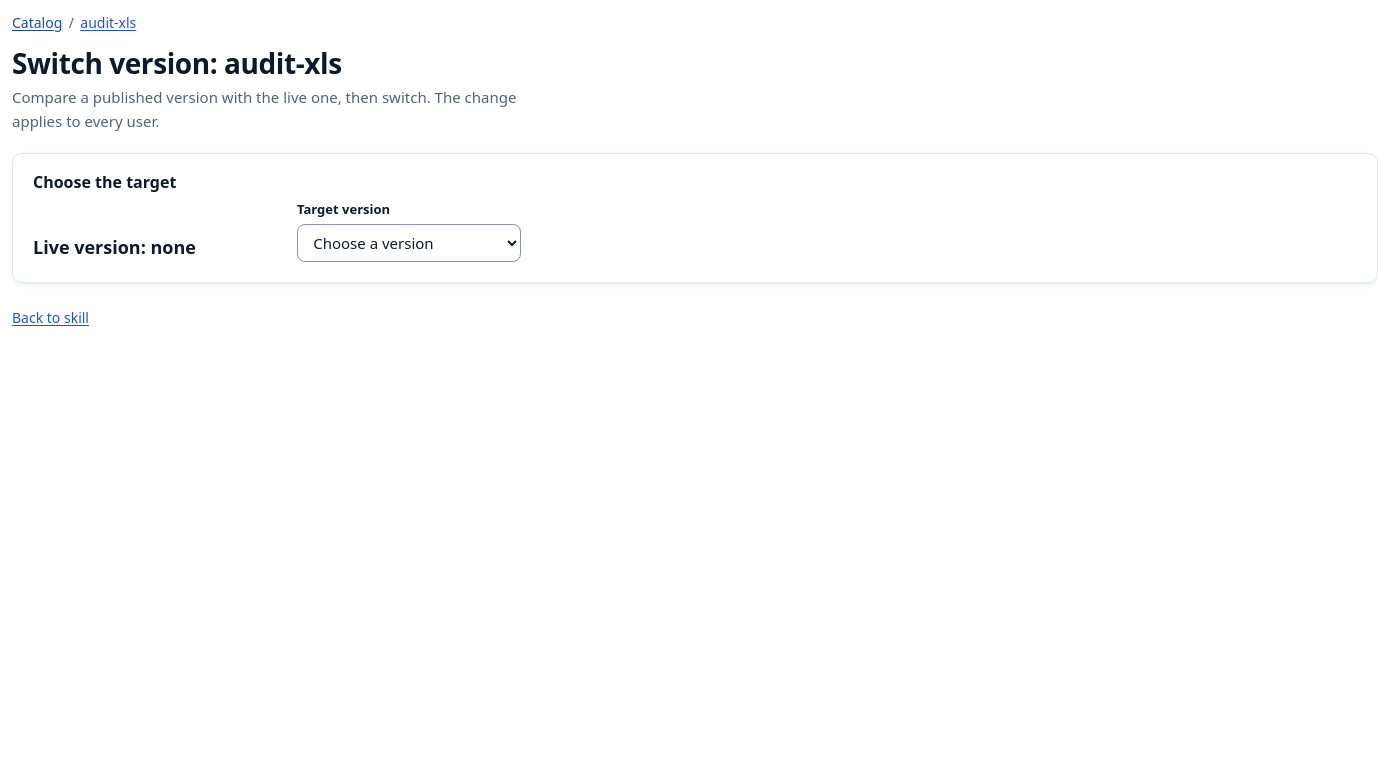
Switch › maps a 409 to a plain message
This screenshot has width=1378, height=769.
Select "v1" in the dropdown labelled "Target version" at [409, 242], box [297,224,521,262]
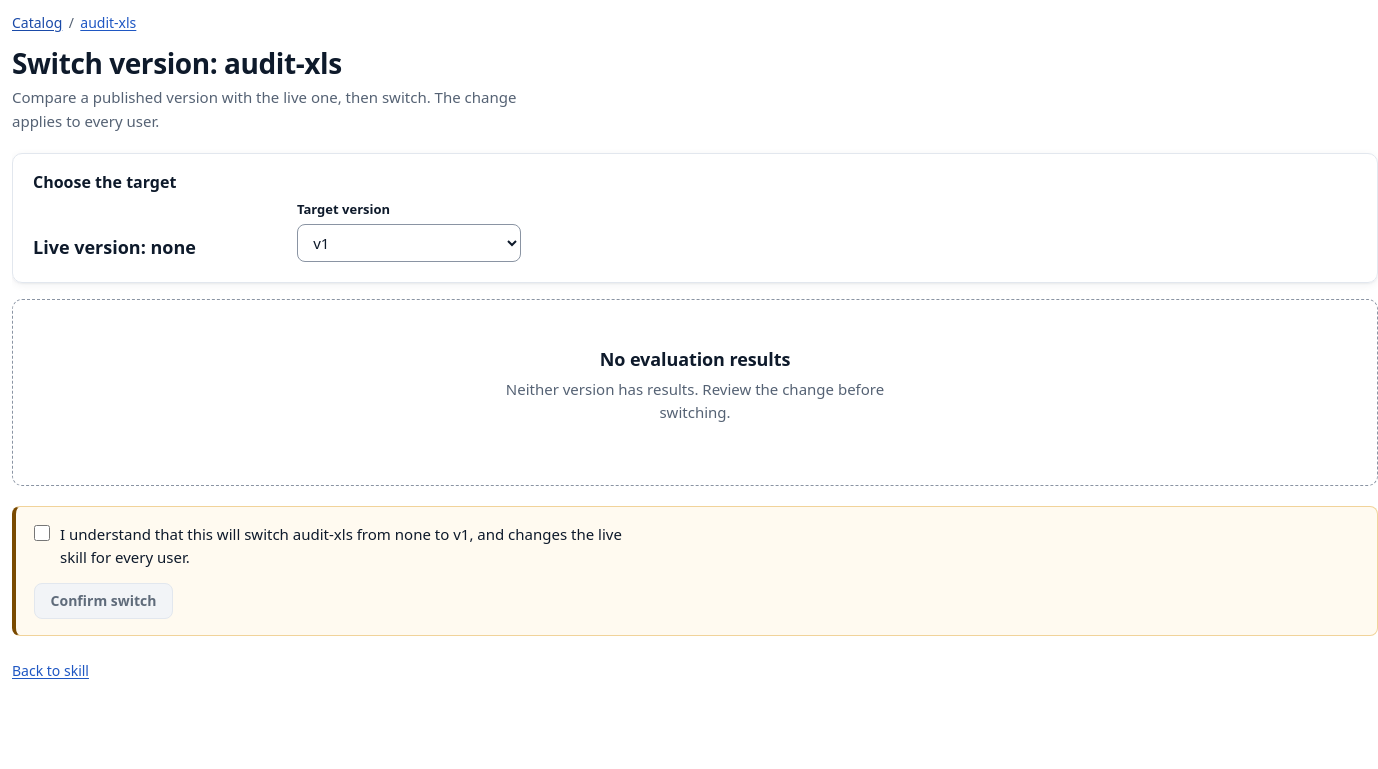
Click the checkbox labelled "I understand" at [42, 533], box [34,525,50,541]
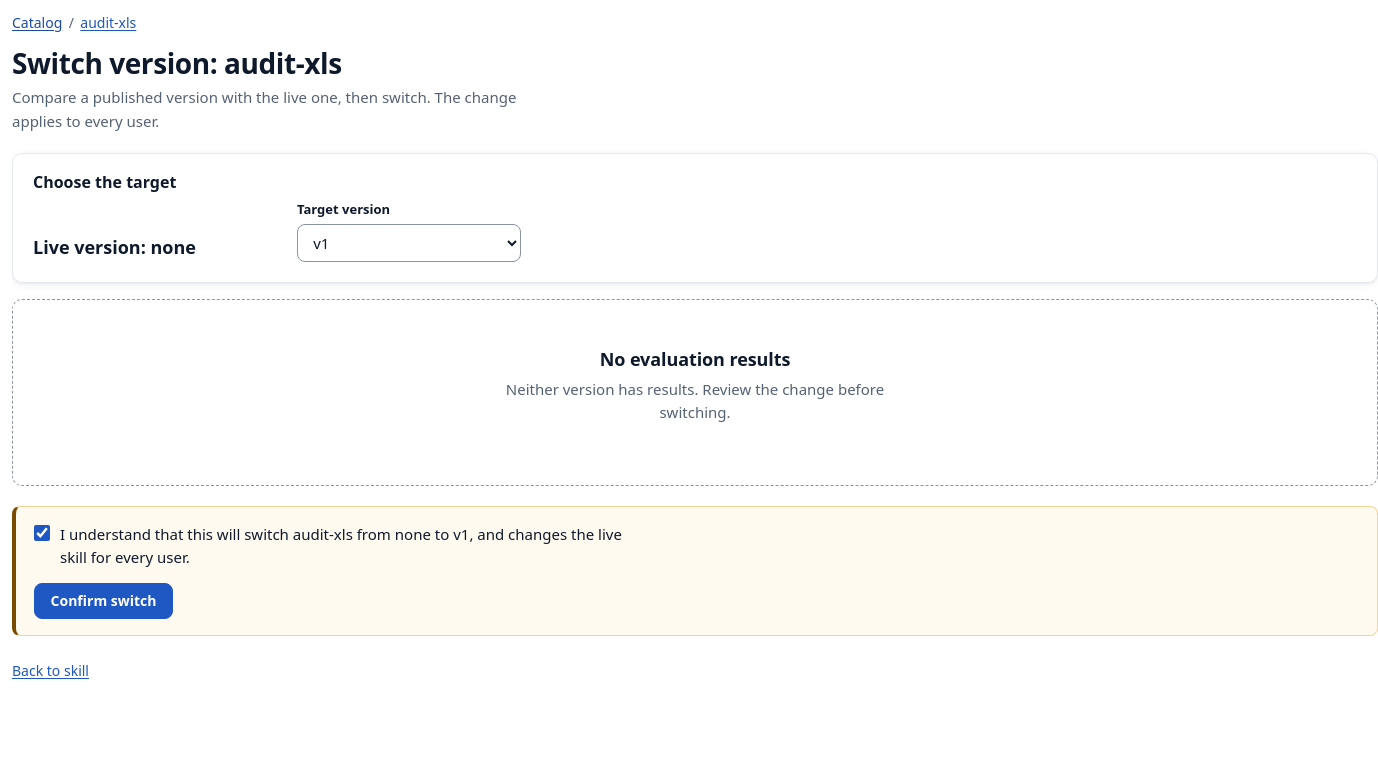
Click the button "Confirm switch" at [104, 601], box [34,583,173,619]
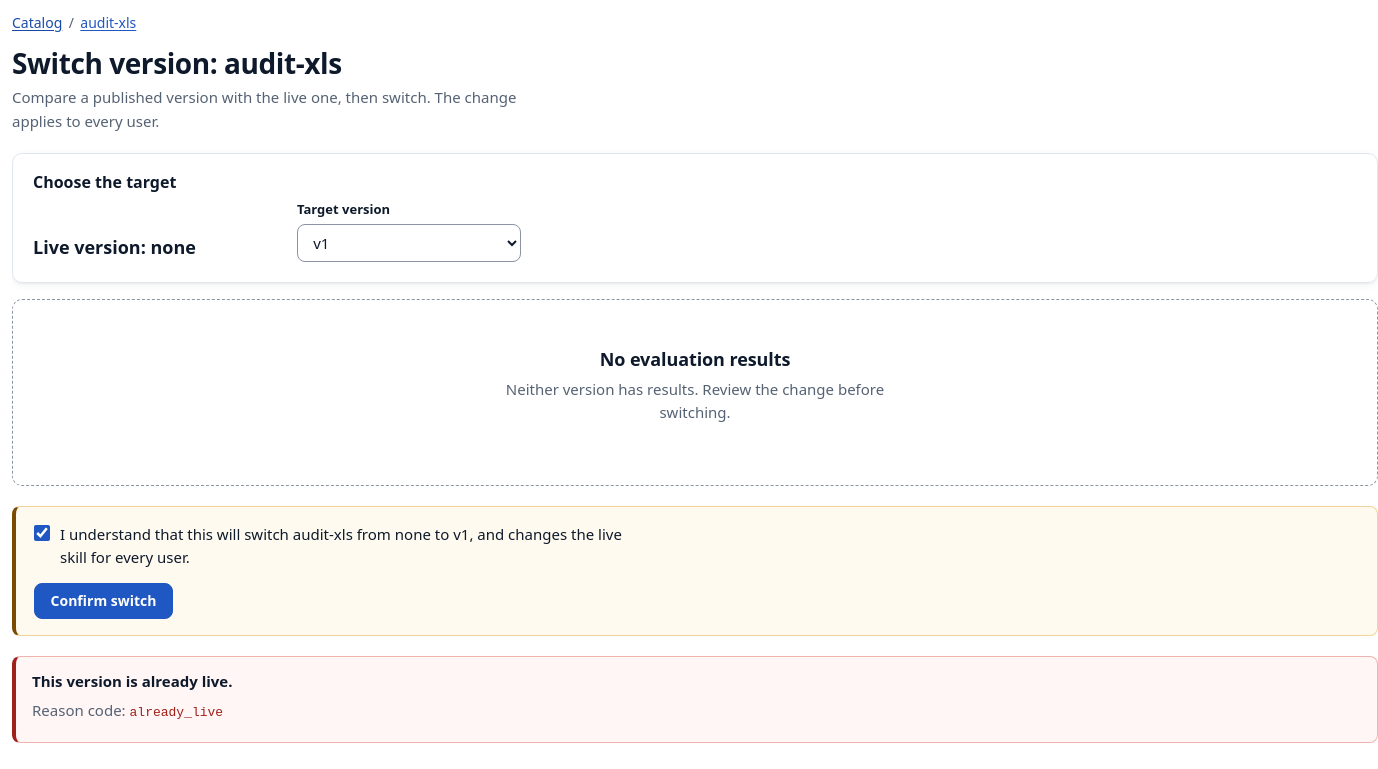
Check: the message shows "already live", box [32,671,232,691]
